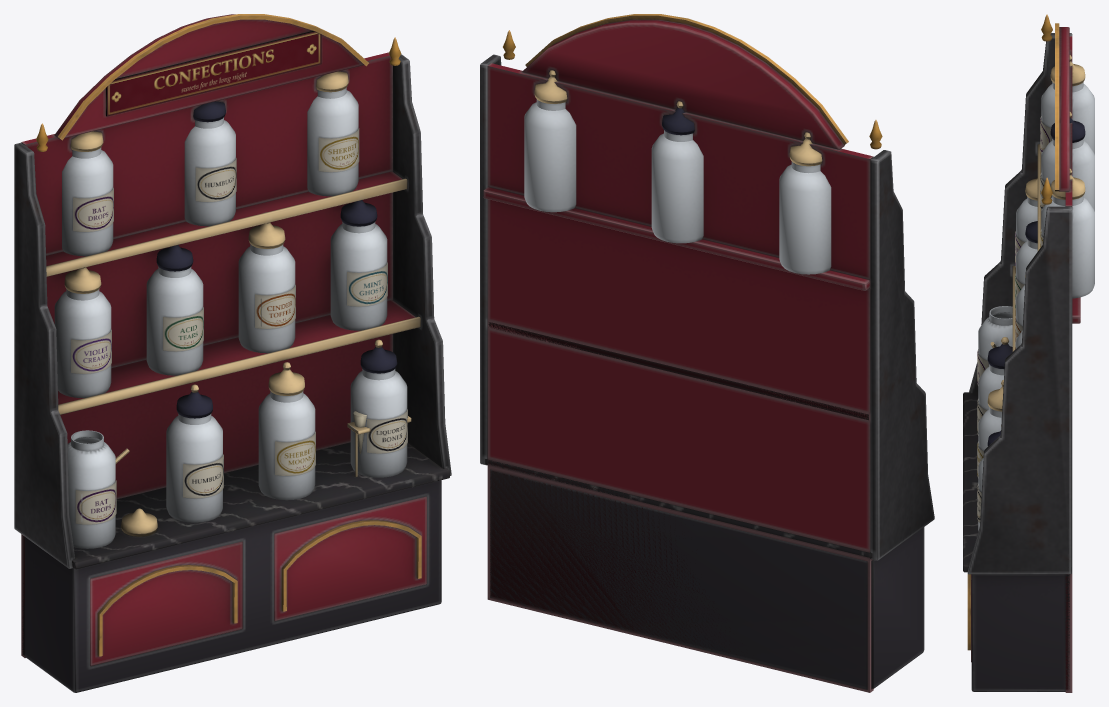
Rendered from SweetJarShelf.fbx.
3 renders of one model, left to right at view 1: azimuth 30°, elevation 25°; view 2: azimuth 150°, elevation 25°; view 3: azimuth 270°, elevation 25°, orthographic. The views are drawn at different scales.
Parts seen in each view (by area): view 1: SweetJarShelf_Main, SweetJarShelf_Glass; view 2: SweetJarShelf_Main, SweetJarShelf_Glass; view 3: SweetJarShelf_Main, SweetJarShelf_Glass.
Part boxes in pixels (left/top/right/bottom): SweetJarShelf_Main: left=14, top=14, right=451, bottom=692; SweetJarShelf_Glass: left=54, top=87, right=407, bottom=548; SweetJarShelf_Main: left=480, top=14, right=934, bottom=692; SweetJarShelf_Glass: left=524, top=99, right=831, bottom=274; SweetJarShelf_Main: left=963, top=14, right=1085, bottom=692; SweetJarShelf_Glass: left=978, top=82, right=1094, bottom=530.
Bounding box in the file's own units: 500 × 744 × 157.
